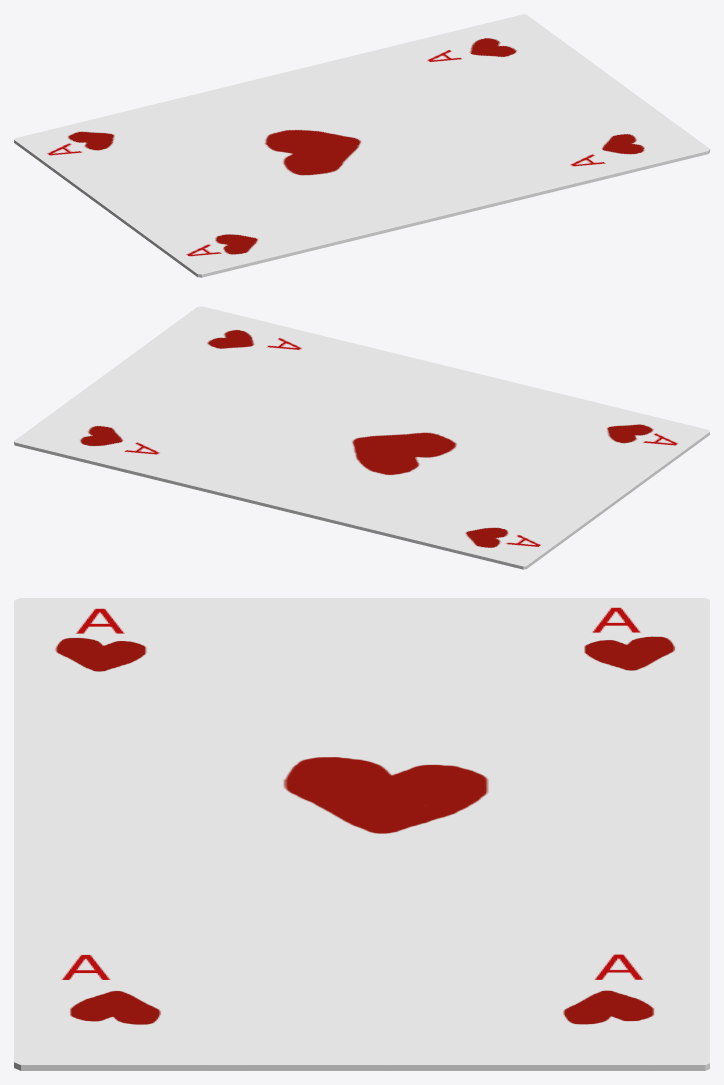
Rendered from Ace_hearts.fbx.
The picture shows the model from 3 angles, top to bottom: view 1: azimuth 30°, elevation 25°; view 2: azimuth 150°, elevation 25°; view 3: azimuth 270°, elevation 25°; orthographic projection. The views are drawn at different scales.
Parts seen in each view (by area): view 1: card; view 2: card; view 3: card.
Boxes of the visible parts, left/top/right/bottom form: card: left=14, top=14, right=709, bottom=277; card: left=14, top=306, right=709, bottom=569; card: left=14, top=598, right=709, bottom=1070.
Size of the model in its own units: 9.86 by 0.0585 by 6.21.
